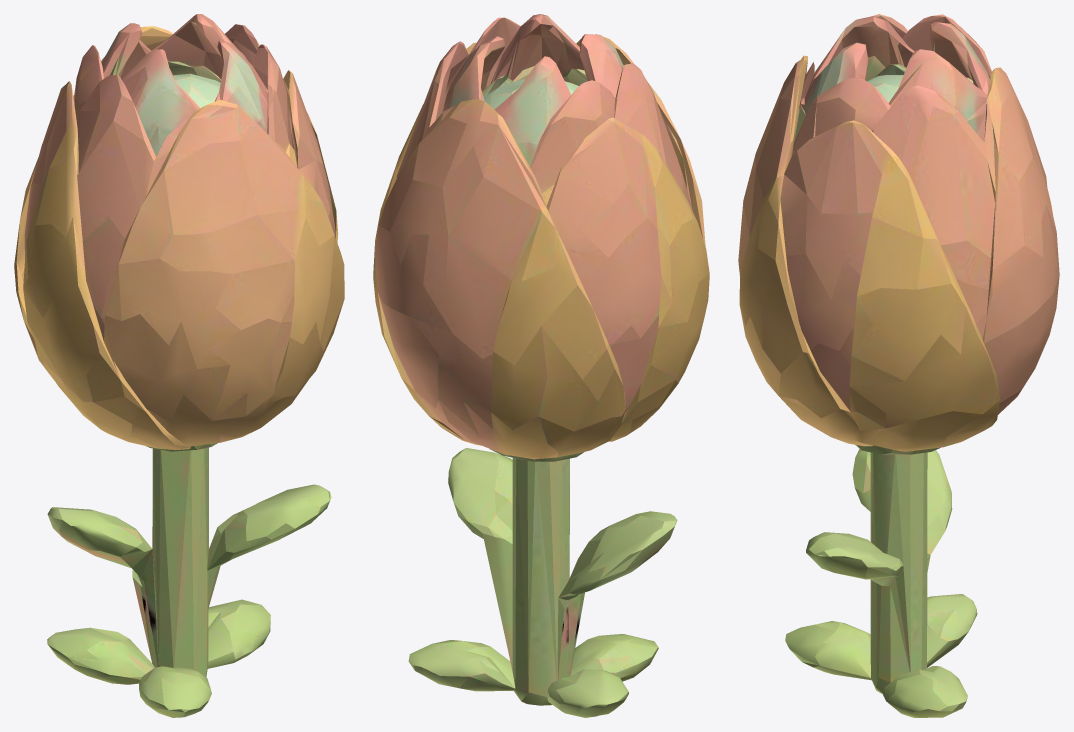
The model's file is flowerBud.c62434c7.glb.
3 renders of one model, left to right at view 1: azimuth 30°, elevation 25°; view 2: azimuth 150°, elevation 25°; view 3: azimuth 270°, elevation 25°, orthographic.
Parts seen in each view (by area): view 1: output_unwrapped; view 2: output_unwrapped; view 3: output_unwrapped.
Part boxes in pixels (x1,y1,x2,y2): output_unwrapped: (14,14,344,717); output_unwrapped: (373,14,709,717); output_unwrapped: (738,14,1059,717).
Size of the model in its own units: 0.8604 by 1.9 by 0.8434.
1 material, 1 textured.
